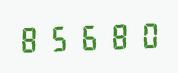eight: (18, 22, 45, 54), (102, 19, 129, 51)
five: (46, 21, 73, 53)
six: (74, 20, 101, 52)
zero: (130, 18, 157, 50)
